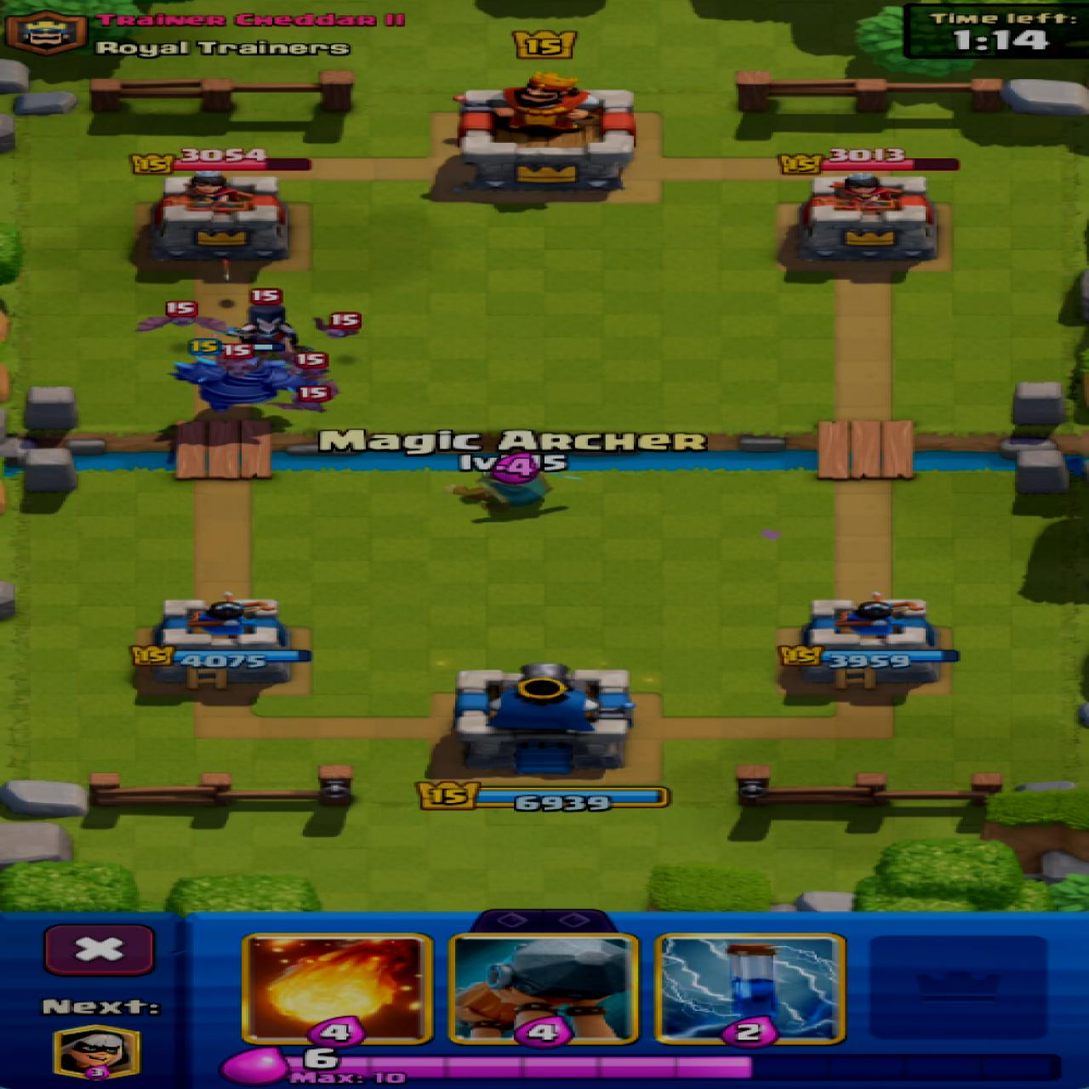Enemy-Bat: (137, 303, 231, 331), (274, 387, 325, 411), (292, 351, 325, 379), (316, 318, 355, 336), (220, 357, 261, 374), (327, 379, 338, 397)
Enemy-KingTower: (457, 73, 634, 195)
Enemy-NightWitch: (229, 303, 296, 355)
Enemy-PrincessTower: (148, 168, 287, 259), (799, 175, 934, 261)
